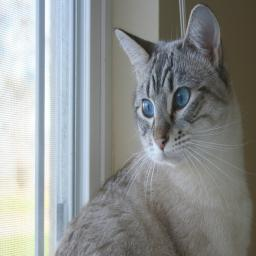catnose: (154, 136, 166, 150)
